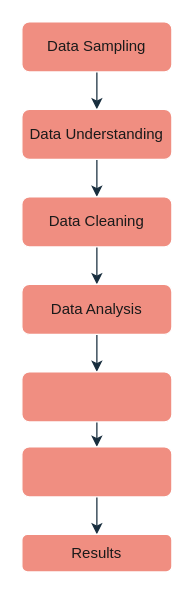
Some shapes in this 194 by 594 pixel diagram are drawn without their labels. Each missing label, with the box of its shape:
Comparison of Models: (21, 446, 172, 497)
Modelling: (21, 371, 172, 422)
